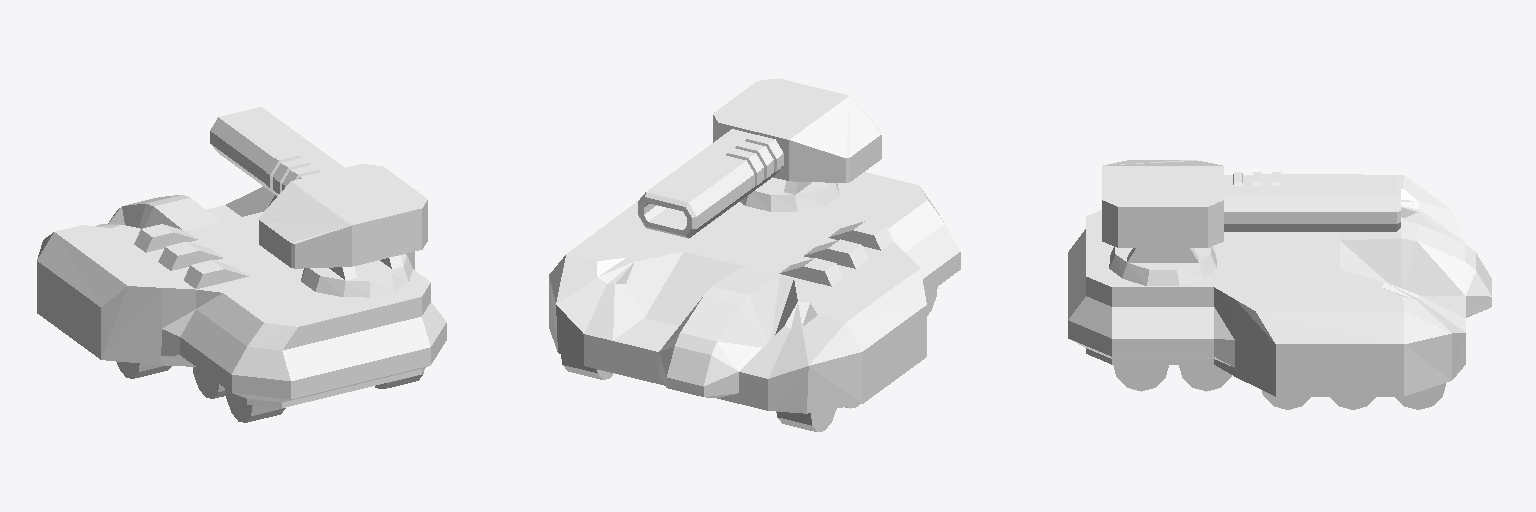
File: tank3.2.obj
The picture shows the model from 3 angles: view 1: azimuth 30°, elevation 25°; view 2: azimuth 150°, elevation 25°; view 3: azimuth 270°, elevation 25°; orthographic projection.
Visible parts, largest first — view 1: cube1_sep17, cube1_sep9, cube1_cut6, cube1_sep14, cube1_sep11, cube1_sep13; view 2: cube1_sep17, cube1_sep9, cube1_cut6, cube1_sep12; view 3: cube1_sep17, cube1_sep9, cube1_cut6, cube1_sep16, cube1_sep15, cube1_sep8.
Boxes of the visible parts, x1,y1,x2,y2 form: cube1_sep17: [37, 186, 446, 407]; cube1_sep9: [210, 107, 427, 268]; cube1_cut6: [301, 254, 412, 297]; cube1_sep14: [225, 389, 285, 422]; cube1_sep11: [116, 361, 171, 378]; cube1_sep13: [193, 367, 225, 398]; cube1_sep17: [549, 172, 960, 413]; cube1_sep9: [638, 78, 881, 238]; cube1_cut6: [740, 177, 839, 211]; cube1_sep12: [776, 409, 836, 431]; cube1_sep17: [1068, 174, 1491, 396]; cube1_sep9: [1102, 160, 1400, 247]; cube1_cut6: [1109, 247, 1216, 285]; cube1_sep16: [1113, 365, 1168, 391]; cube1_sep15: [1179, 365, 1231, 391]; cube1_sep8: [1395, 383, 1445, 409].
Size of the model in its own units: 2.95 by 1.68 by 3.45.